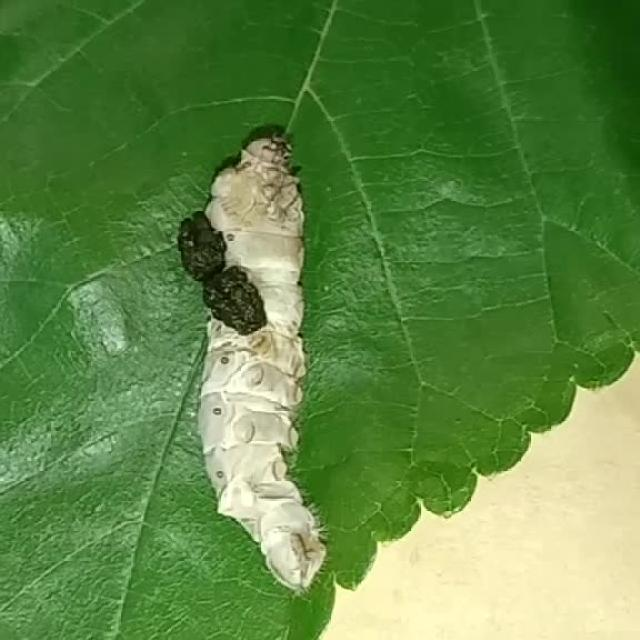Grasserie: (152, 112, 375, 600)
